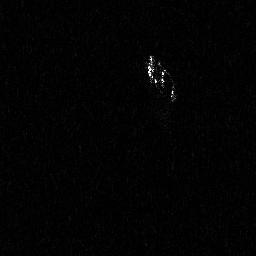ship: (147, 52, 179, 103)
